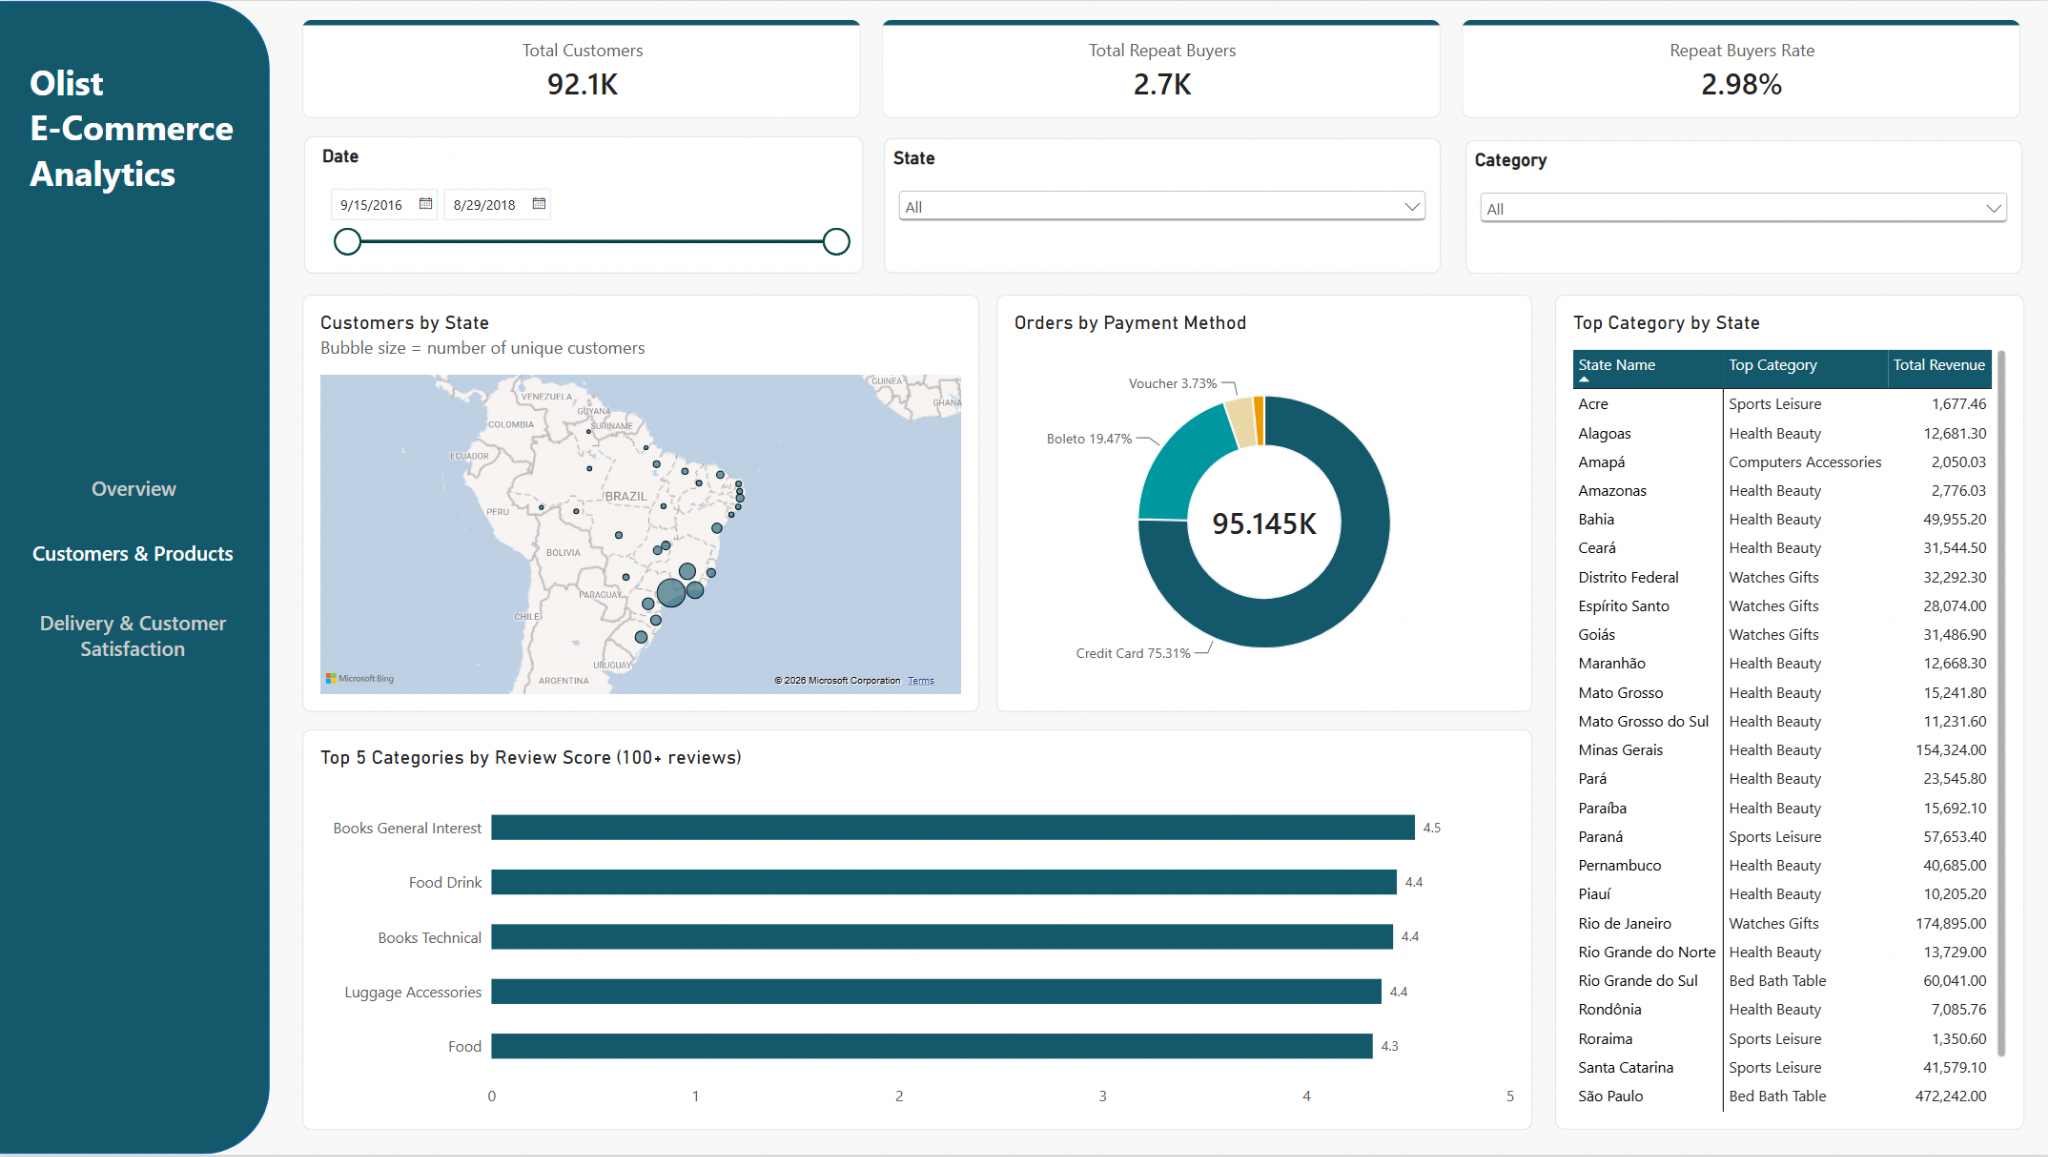

This screenshot's page, from the dashboard's own definition file:
{"tool":"powerbi","page":{"name":"Customers & Products","canvas":[1920,1080],"ordinal":1},"visuals":[{"type":"map","title":"Customers by State","fields":{"Size":["public state_geo.Total Customers"],"X":["public state_geo.avg_lng"],"Y":["public state_geo.avg_lat"]},"box":[283.9,275,633.9,391.1],"z":0},{"type":"donutChart","title":"Orders by Payment Method","fields":{"Category":["public olist_order_payments_dataset.Payment Method"],"Y":["Count(public olist_order_payments_dataset.order_id)"]},"box":[933.9,275,501.8,391.1],"z":1000},{"type":"pivotTable","title":"Top Category by State","fields":{"Rows":["public top_category_by_state.state_name"],"Values":["Min(public top_category_by_state.top_category)","Sum(public top_category_by_state.total_revenue)"]},"box":[1457.1,275,439.3,782.1],"z":2000},{"type":"shape","box":[0,0,253.3,1080],"z":3000},{"type":"textbox","box":[28.3,53.3,196.7,135],"z":4000},{"type":"actionButton","title":"Sale Overview","box":[56.7,436.7,138.3,31.7],"z":5000},{"type":"actionButton","title":"Customers & Products","box":[16.7,493.3,218.3,48.3],"z":6000},{"type":"actionButton","title":"Delivery & Customer Satisfaction","box":[16.7,556.7,218.3,75],"z":7000},{"type":"cardVisual","fields":{"Data":["public state_geo.Total Customers","public order_facts.Repeat Buyers Count","public order_facts.Repeat Buyers Rate"]},"box":[283.9,17.9,1610.7,92.9],"z":8000},{"type":"clusteredBarChart","title":"Top 5 Categories by Review Score (100+ reviews)","fields":{"Category":["public order_facts.product_category_name_english"],"Y":["public order_facts.Qualified Avg Review Score"]},"box":[283.9,682.1,1151.8,375],"z":9000},{"type":"slicer","title":"Category","fields":{"Values":["public order_facts.product_category_name_english"]},"box":[1373.3,129.6,521.7,125],"z":9001},{"type":"slicer","title":"Date","fields":{"Values":["public order_facts.order_purchase_timestamp"]},"box":[285.7,126.8,523.3,128.3],"z":9002},{"type":"slicer","title":"State","fields":{"Values":["public order_facts.state_name"]},"box":[828.3,128,521.7,126.7],"z":9003}]}

Visuals, with their boxes in screenshot pixels (x1, y1, x2, y2), scaled from the page's 1920x1080 canvas onto the 2048x1157 screenshot:
"Customers by State" map: x1=303 y1=295 x2=979 y2=714
"Orders by Payment Method" donutChart: x1=996 y1=295 x2=1531 y2=714
"Top Category by State" pivotTable: x1=1554 y1=295 x2=2023 y2=1132
shape: x1=0 y1=0 x2=270 y2=1156
textbox: x1=30 y1=57 x2=240 y2=202
"Sale Overview" actionButton: x1=60 y1=468 x2=208 y2=502
"Customers & Products" actionButton: x1=18 y1=528 x2=251 y2=580
"Delivery & Customer Satisfaction" actionButton: x1=18 y1=596 x2=251 y2=677
cardVisual - public state_geo.Total Customers x public order_facts.Repeat Buyers Count: x1=303 y1=19 x2=2021 y2=119
"Top 5 Categories by Review Score (100+ reviews)" clusteredBarChart: x1=303 y1=731 x2=1531 y2=1132
"Category" slicer: x1=1465 y1=139 x2=2021 y2=273
"Date" slicer: x1=305 y1=136 x2=863 y2=273
"State" slicer: x1=884 y1=137 x2=1440 y2=273
